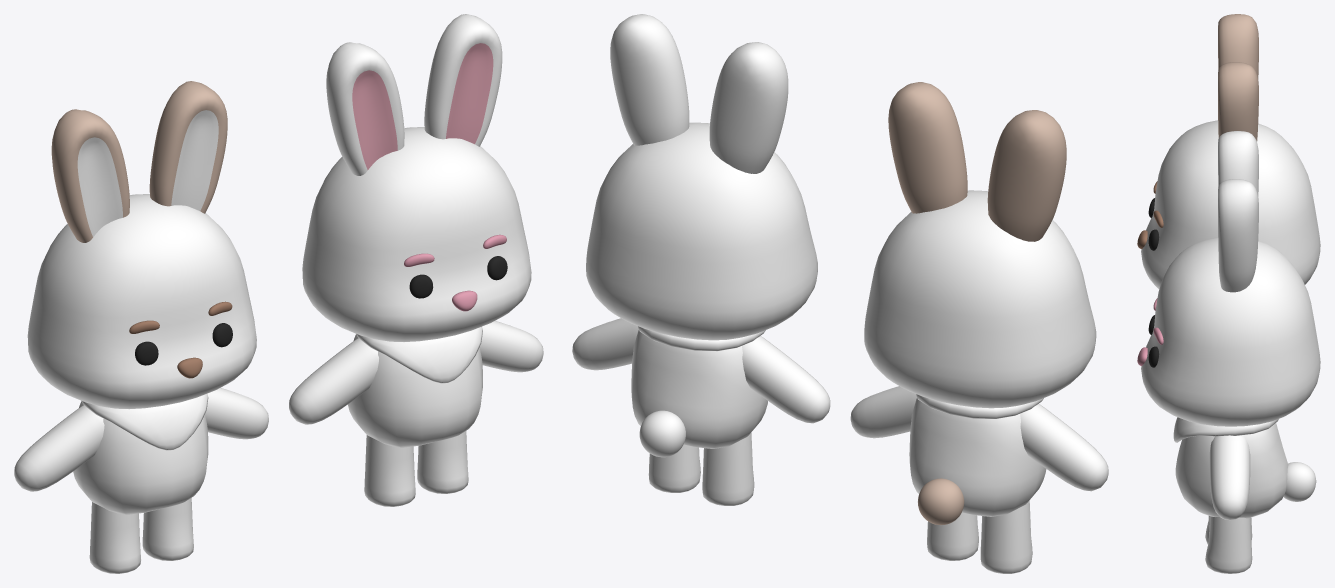
The model's file is bunny.glb.
3 views of the same model, side by side, from view 1: azimuth 30°, elevation 25°; view 2: azimuth 150°, elevation 25°; view 3: azimuth 270°, elevation 25° (orthographic). The views are drawn at different scales.
Parts seen in each view (by area): view 1: bunny2_head, bunny1_head, bunny2_ears, bunny1_ears, bunny1_body, bunny2_body, bunny1_arms, bunny2_arms, bunny1_legs, bunny2_legs, bunny1_scraf, bunny2_scraf (+2 smaller); view 2: bunny1_head, bunny2_head, bunny1_ears, bunny2_ears, bunny1_body, bunny2_body, bunny2_arms, bunny1_arms, bunny1_legs, bunny2_legs, bunny2_tail, bunny1_tail (+2 smaller); view 3: bunny2_head, bunny1_head, bunny2_ears, bunny2_body, bunny1_ears, bunny2_arms, bunny2_legs, bunny2_scraf, bunny2_tail, bunny1_eyes, bunny2_eyes.
Part boxes in pixels (x1,y1,x2,y2): bunny2_head: (302, 127, 531, 341); bunny1_head: (27, 194, 256, 409); bunny2_ears: (326, 14, 502, 175); bunny1_ears: (51, 81, 227, 242); bunny1_body: (73, 401, 208, 514); bunny2_body: (348, 334, 482, 447); bunny1_arms: (14, 388, 268, 491); bunny2_arms: (289, 321, 543, 424); bunny1_legs: (89, 498, 193, 573); bunny2_legs: (364, 431, 468, 506); bunny1_scraf: (81, 394, 208, 450); bunny2_scraf: (356, 326, 482, 383); bunny1_head: (864, 190, 1096, 408); bunny2_head: (586, 122, 817, 340); bunny1_ears: (888, 82, 1066, 241); bunny2_ears: (610, 14, 788, 173); bunny1_body: (909, 398, 1046, 516); bunny2_body: (631, 330, 767, 448); bunny2_arms: (572, 318, 830, 423); bunny1_arms: (850, 386, 1108, 491); bunny1_legs: (927, 500, 1032, 573); bunny2_legs: (648, 433, 754, 505); bunny2_tail: (639, 410, 685, 457); bunny1_tail: (918, 478, 964, 525); bunny2_head: (1141, 237, 1320, 426); bunny1_head: (1141, 120, 1320, 289); bunny2_ears: (1218, 131, 1258, 292); bunny2_body: (1175, 423, 1288, 518); bunny1_ears: (1218, 14, 1258, 140); bunny2_arms: (1209, 435, 1250, 520); bunny2_legs: (1205, 516, 1252, 573); bunny2_scraf: (1173, 417, 1278, 442); bunny2_tail: (1283, 462, 1316, 501); bunny1_eyes: (1148, 198, 1159, 250); bunny2_eyes: (1148, 315, 1159, 367).
Size of the model in its own units: 9.55 by 7.96 by 3.31.
